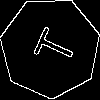T: (25, 22, 78, 69)
